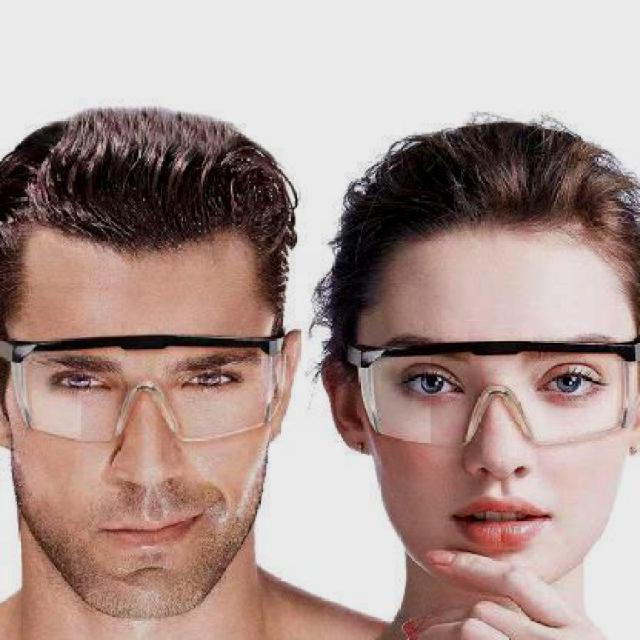face_nomask: (382, 342, 607, 567), (35, 344, 254, 567)
glasses: (341, 333, 639, 452), (0, 329, 278, 446)
head_nohelmet: (329, 108, 640, 292), (0, 96, 282, 290)
